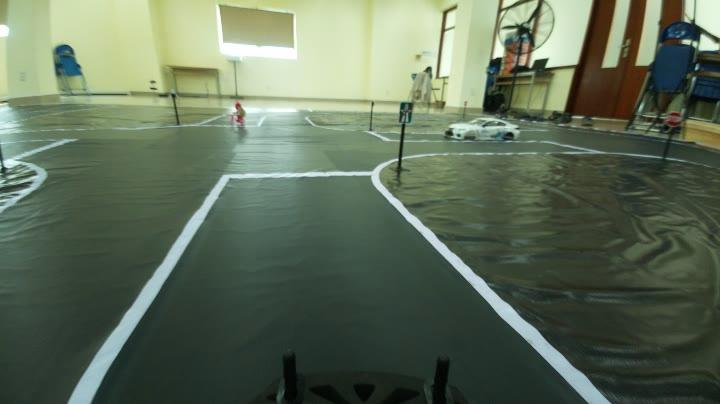highway_exit: (393, 100, 413, 124)
